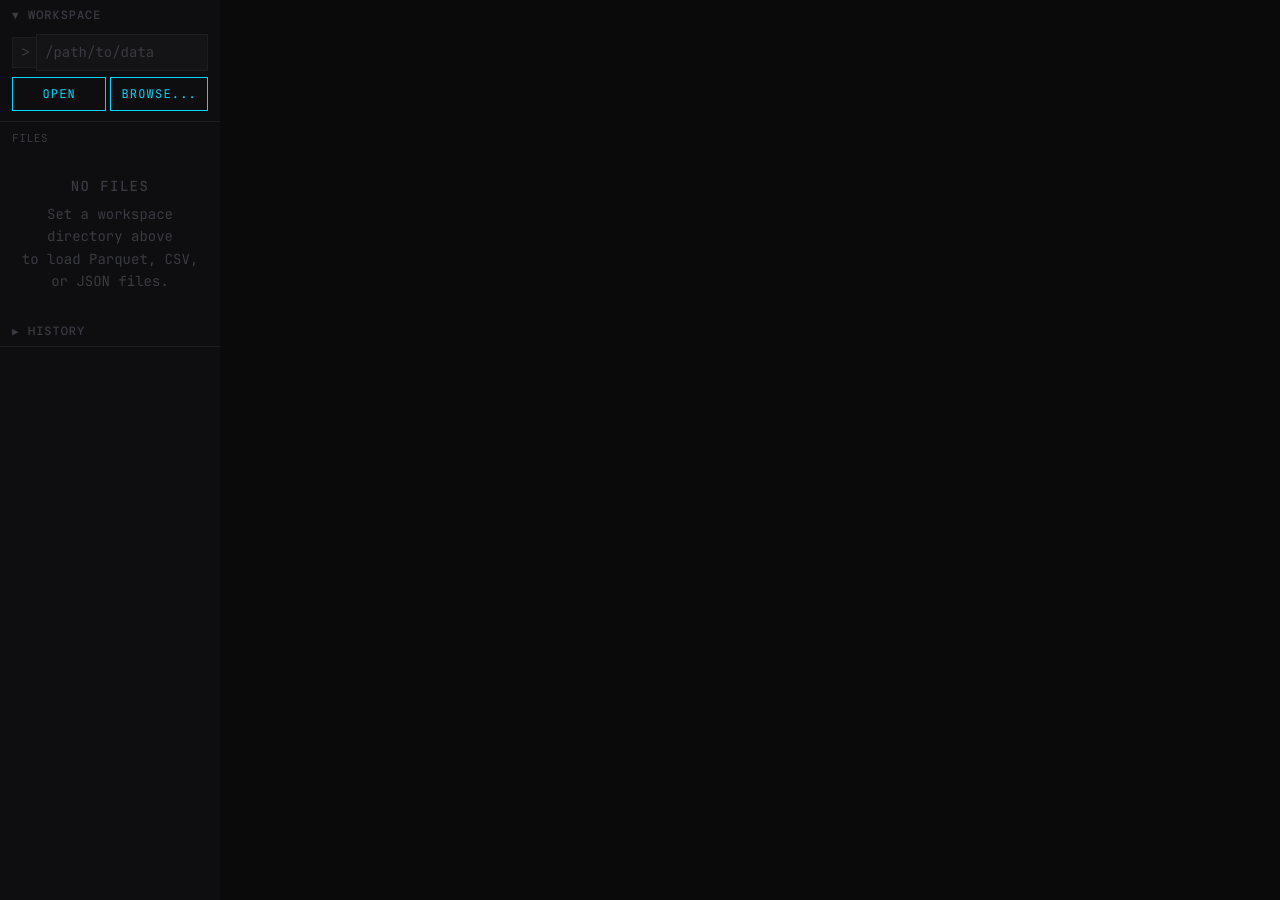
Scenario: FileExplorer › clicking 'select this folder' auto-configures workspace
The width and height of the screenshot is (1280, 900).
Click the button "browse...": x=159, y=94 [110,77,208,111]
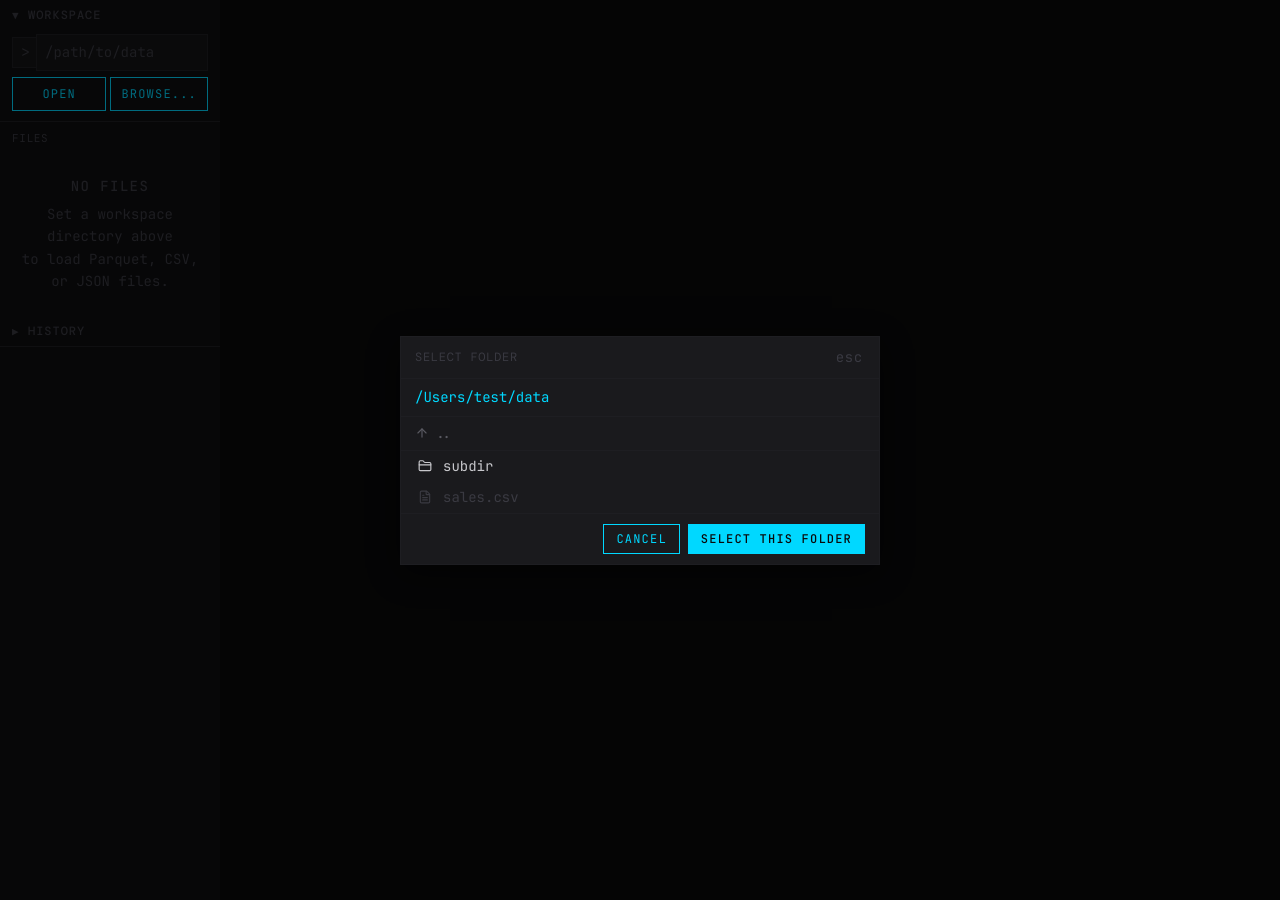
Expected: the text "select folder" is shown, [415,348,518,366]
Click the button "select this folder": x=776, y=538 [688,524,865,554]
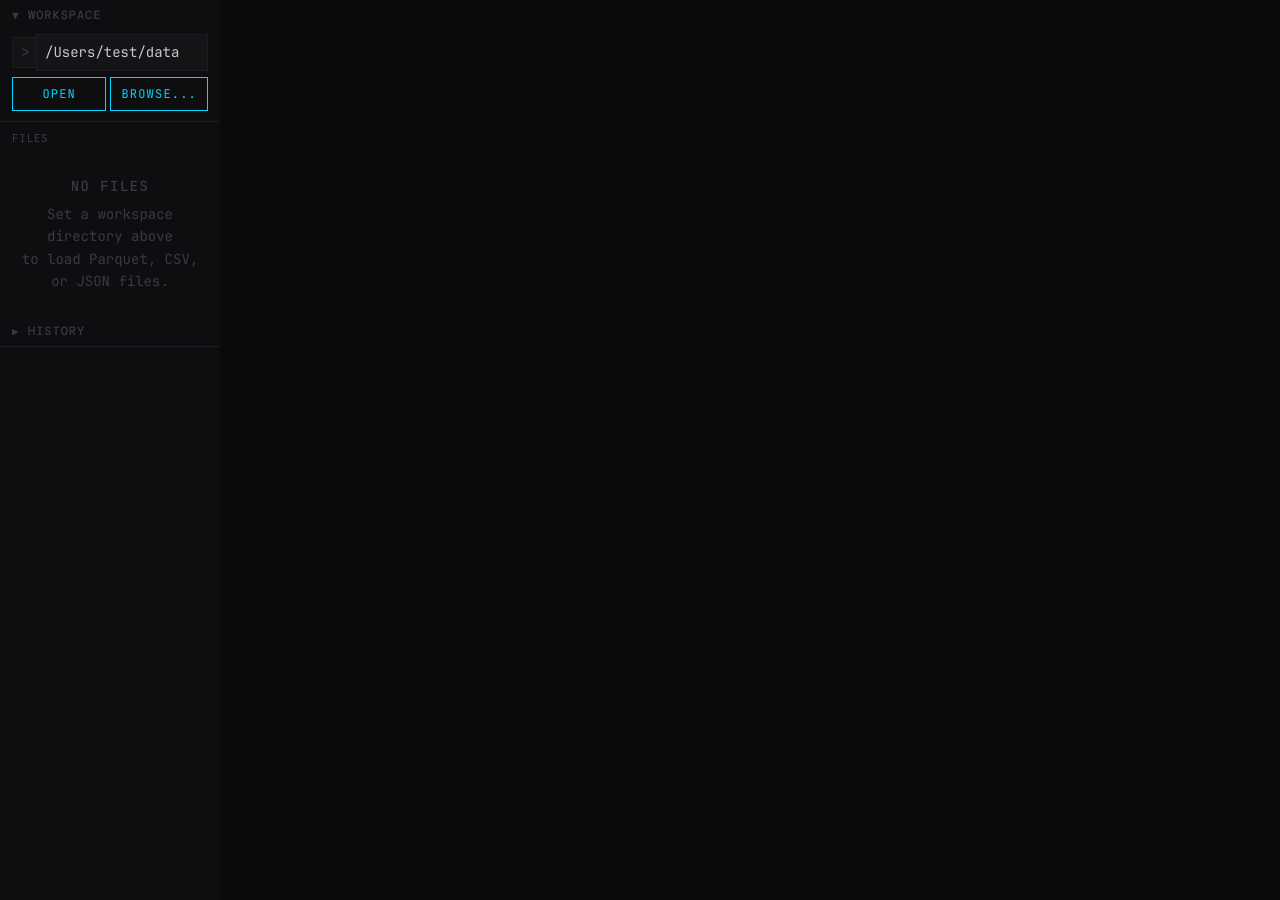
Expected: the text "select folder" is gone
